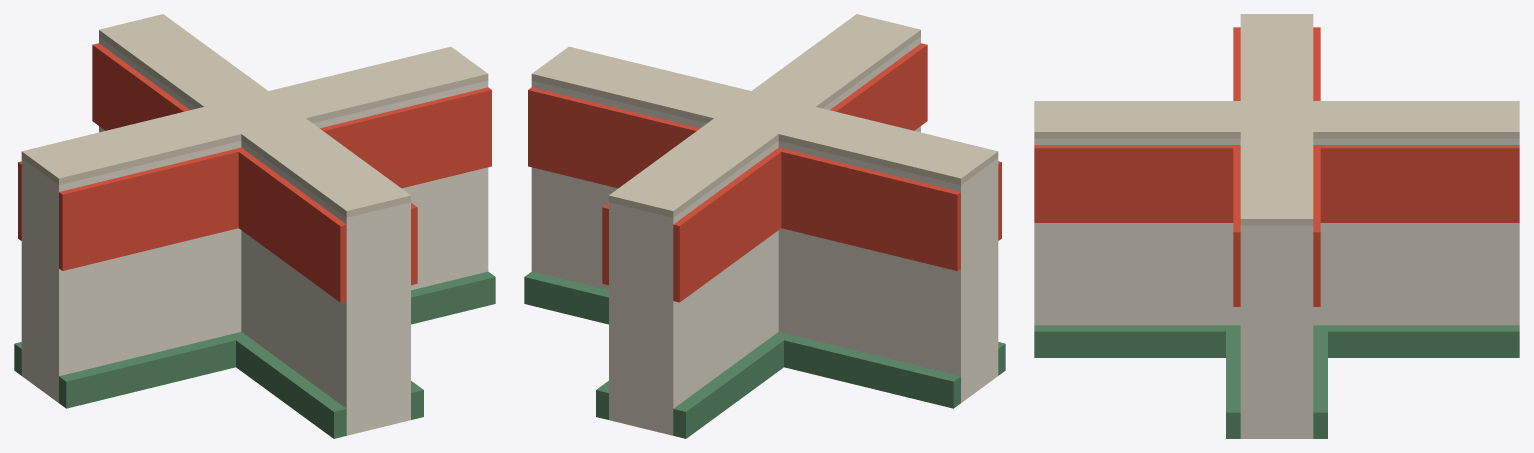
Rendered from partition-low-cross.glb.
3 views of the same model, side by side, from view 1: azimuth 30°, elevation 25°; view 2: azimuth 150°, elevation 25°; view 3: azimuth 270°, elevation 25° (orthographic). The views are drawn at different scales.
Visible parts, largest first — view 1: partition-low-cross; view 2: partition-low-cross; view 3: partition-low-cross.
Boxes of the visible parts, x1,y1,x2,y2 form: partition-low-cross: [14, 14, 495, 438]; partition-low-cross: [524, 14, 1005, 438]; partition-low-cross: [1034, 14, 1519, 438].
Size of the model in its own units: 1 by 0.5 by 1.
1 material, 1 textured.
